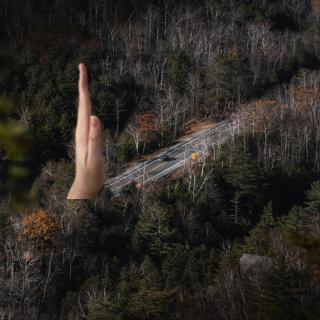Right: (65, 54, 114, 206)
